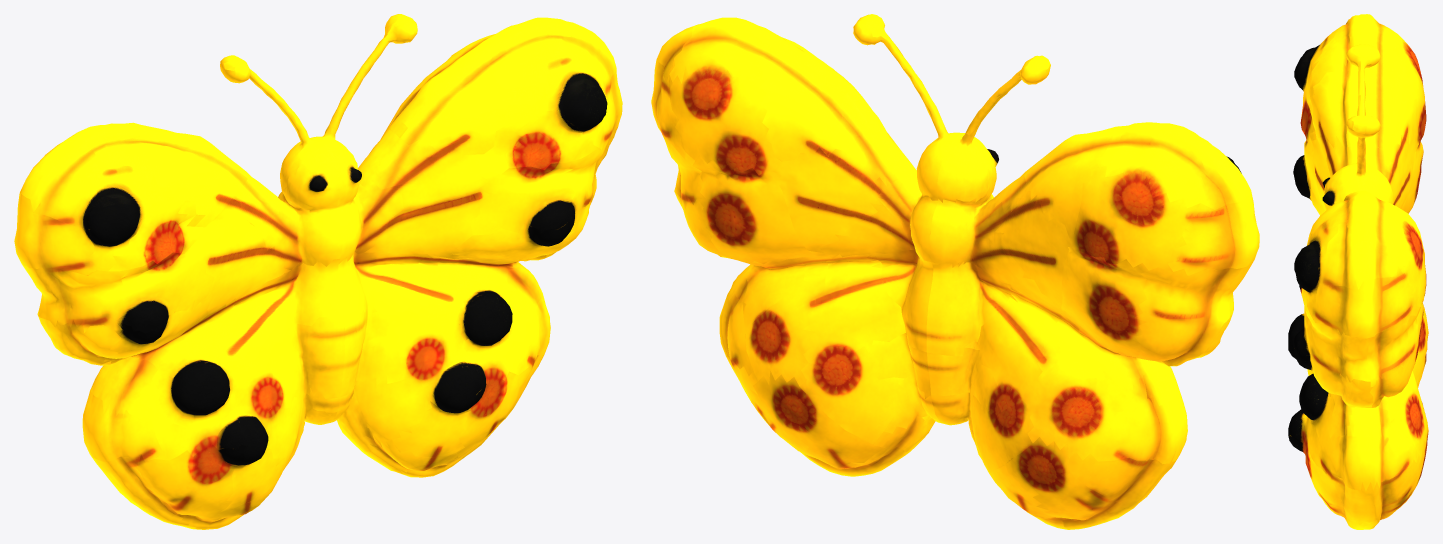
Rendered from s1_quality_butterfly.glb.
3 renders of one model, left to right at view 1: azimuth 30°, elevation 25°; view 2: azimuth 150°, elevation 25°; view 3: azimuth 270°, elevation 25°, orthographic. The views are drawn at different scales.
Size of the model in its own units: 1.91 by 1.4 by 0.4462.
Materials: 1 (1 with a texture image).
